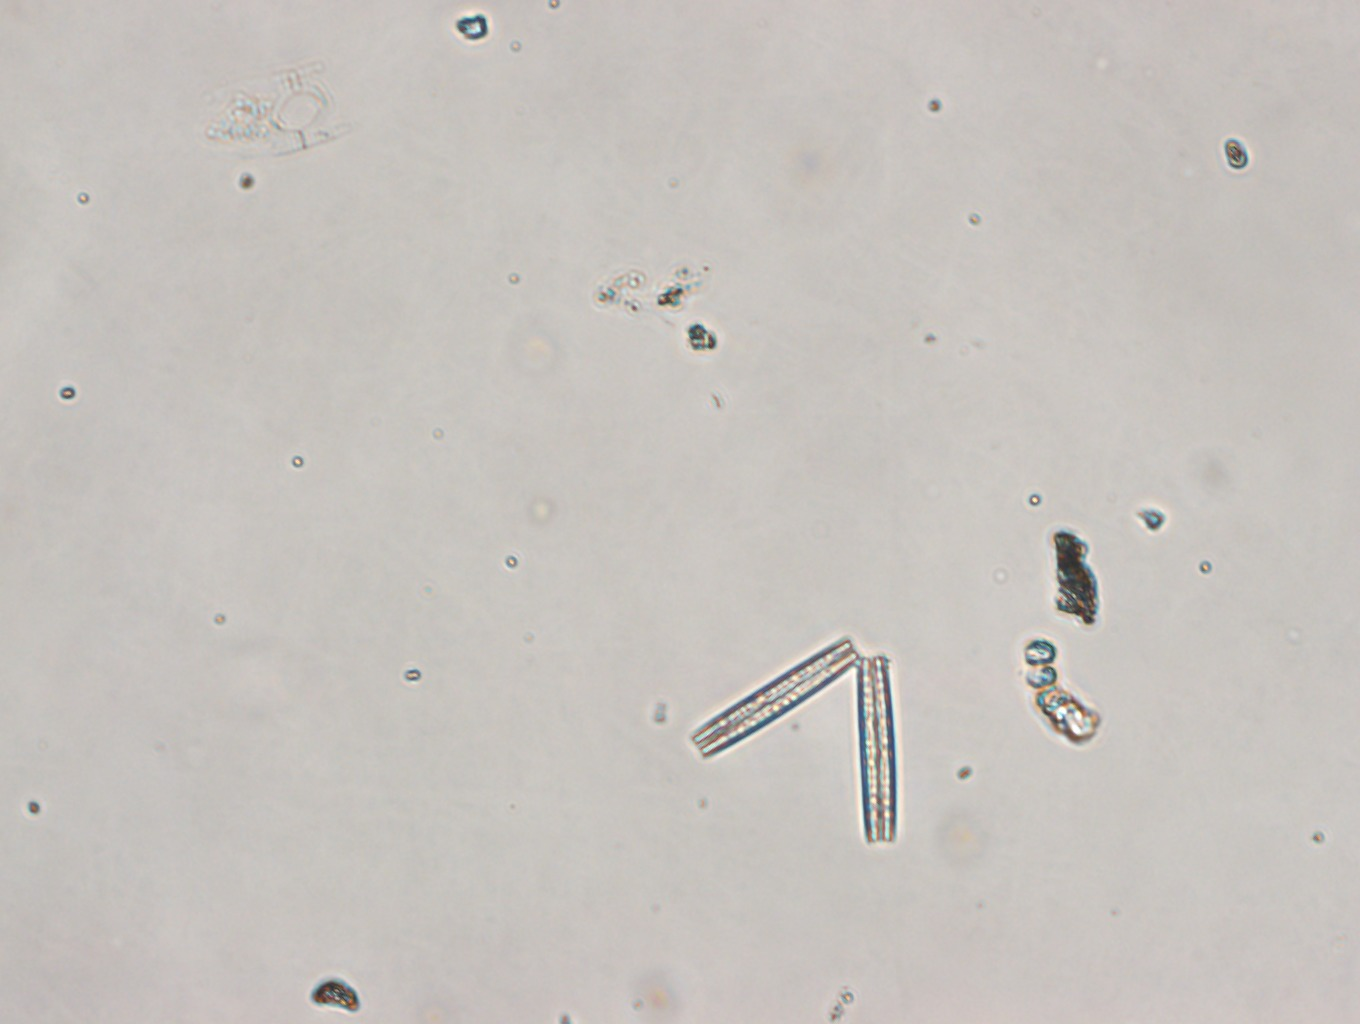thalassionema nitzschioides: (693, 632, 903, 857)
